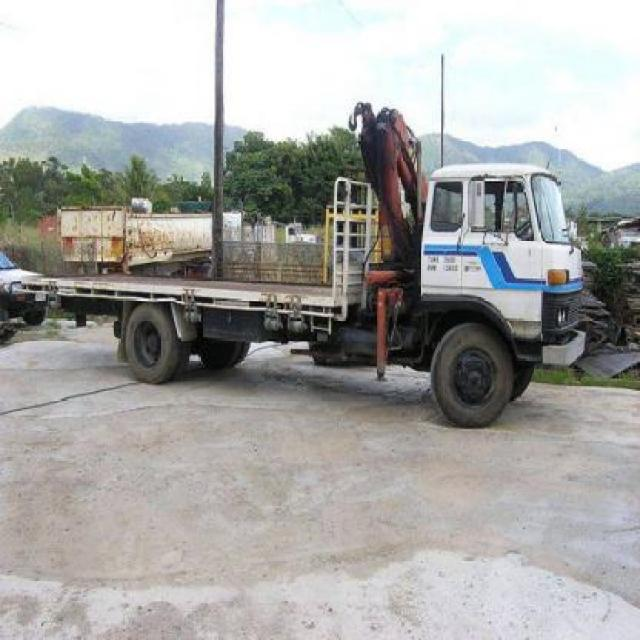truck: (19, 96, 585, 427)
